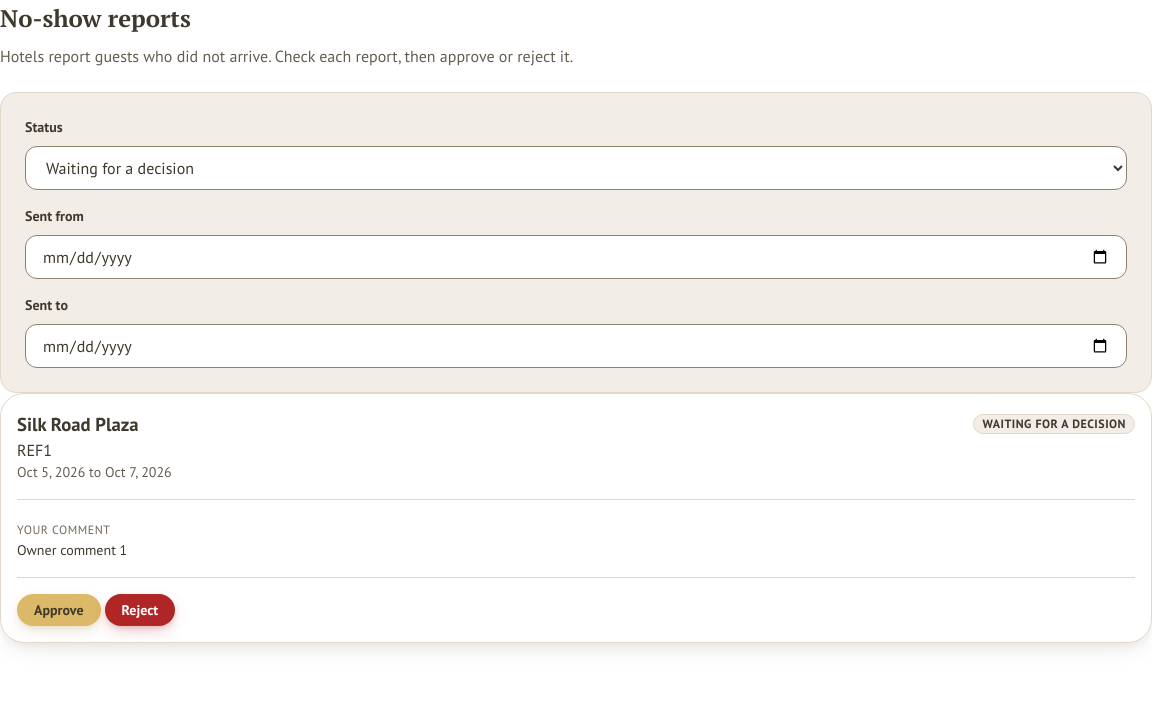
AdminNoShowReports › decisions › shows the translated backend error inside the dialog and stays open
Click the button "Approve": (59, 610) top-left (17, 594), bottom-right (100, 626)
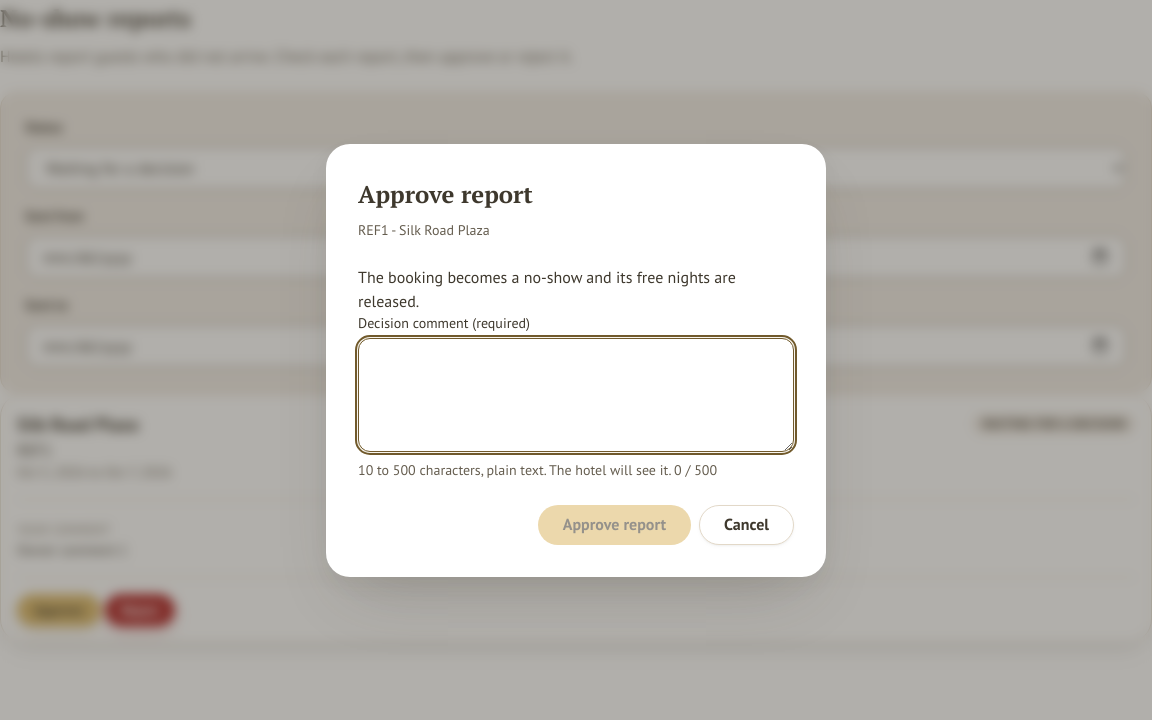
In the text box labelled "Decision comment (required)": (576, 394) top-left (358, 338), bottom-right (794, 452), type "Checked with the hotel and the guest."
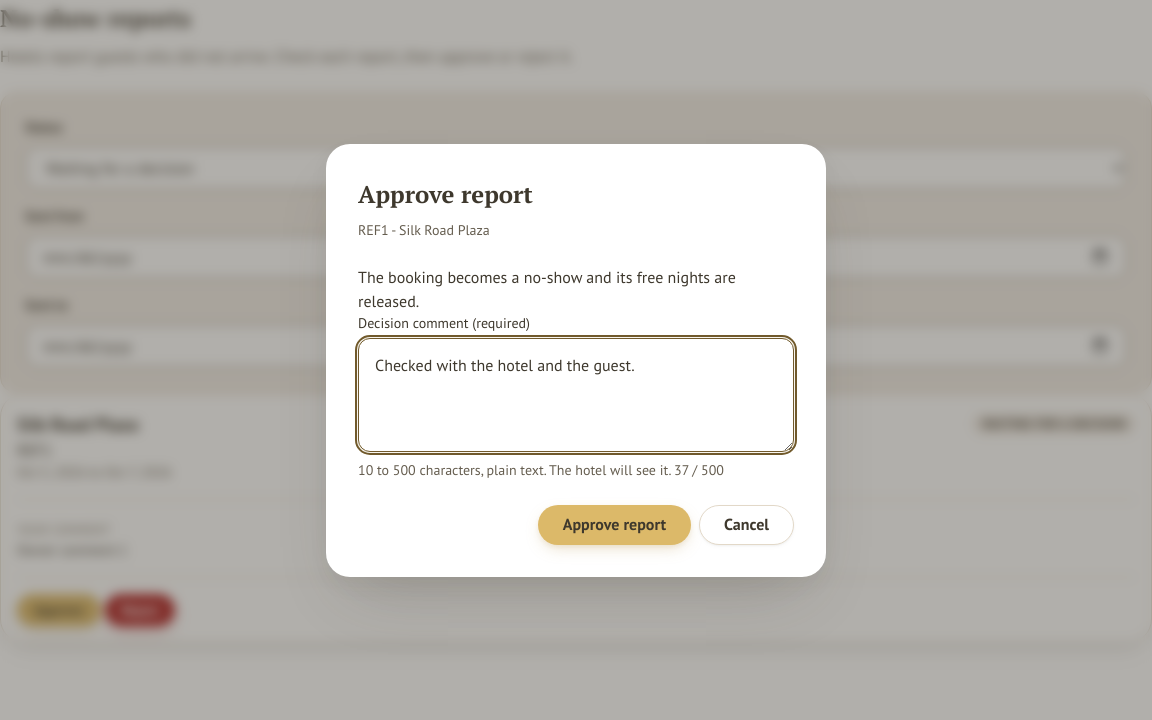
Click the button "Approve report": (614, 524) top-left (538, 504), bottom-right (691, 544)
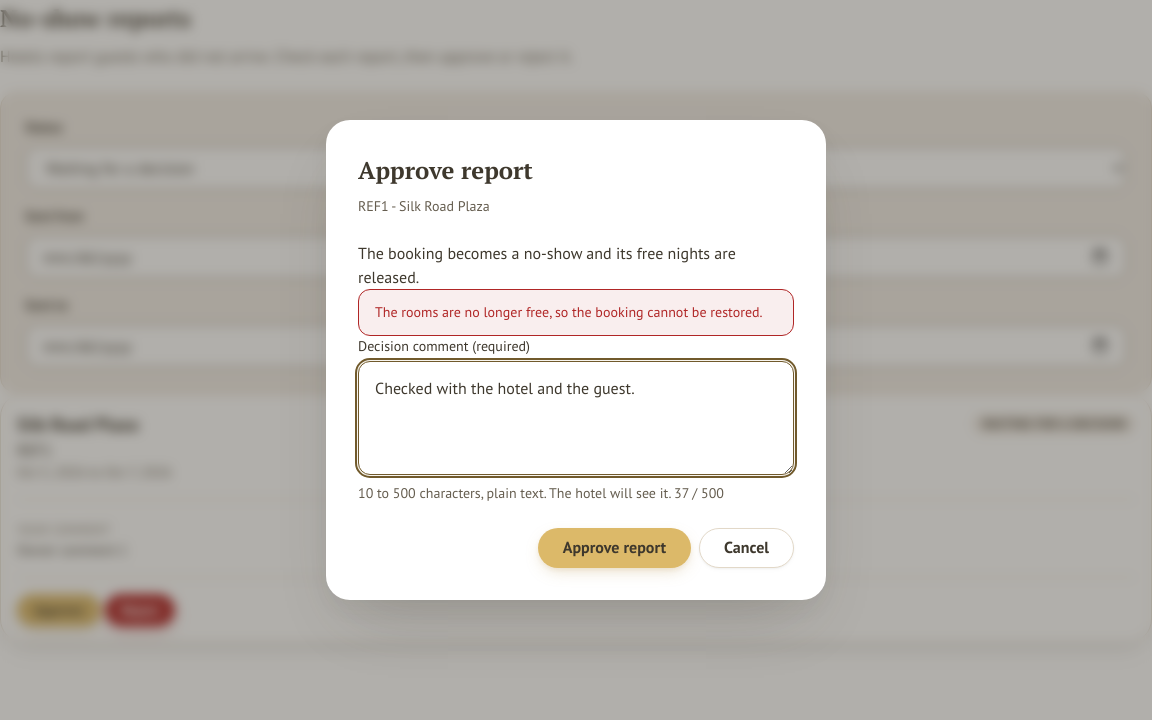
Expected: the dialog is shown
Expected: the message reads "The rooms are no longer free, so the booking cannot be restored.", top-left (375, 303), bottom-right (762, 321)
